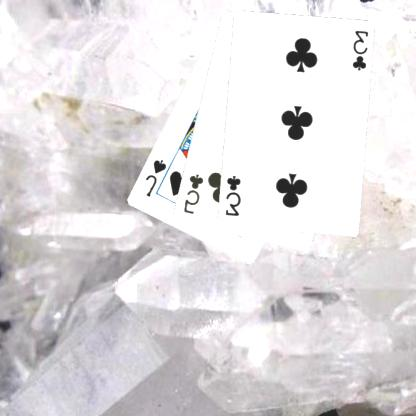3C: (223, 173, 244, 218), (351, 28, 372, 72)
5C: (182, 171, 207, 216)
JS: (144, 156, 169, 199)
